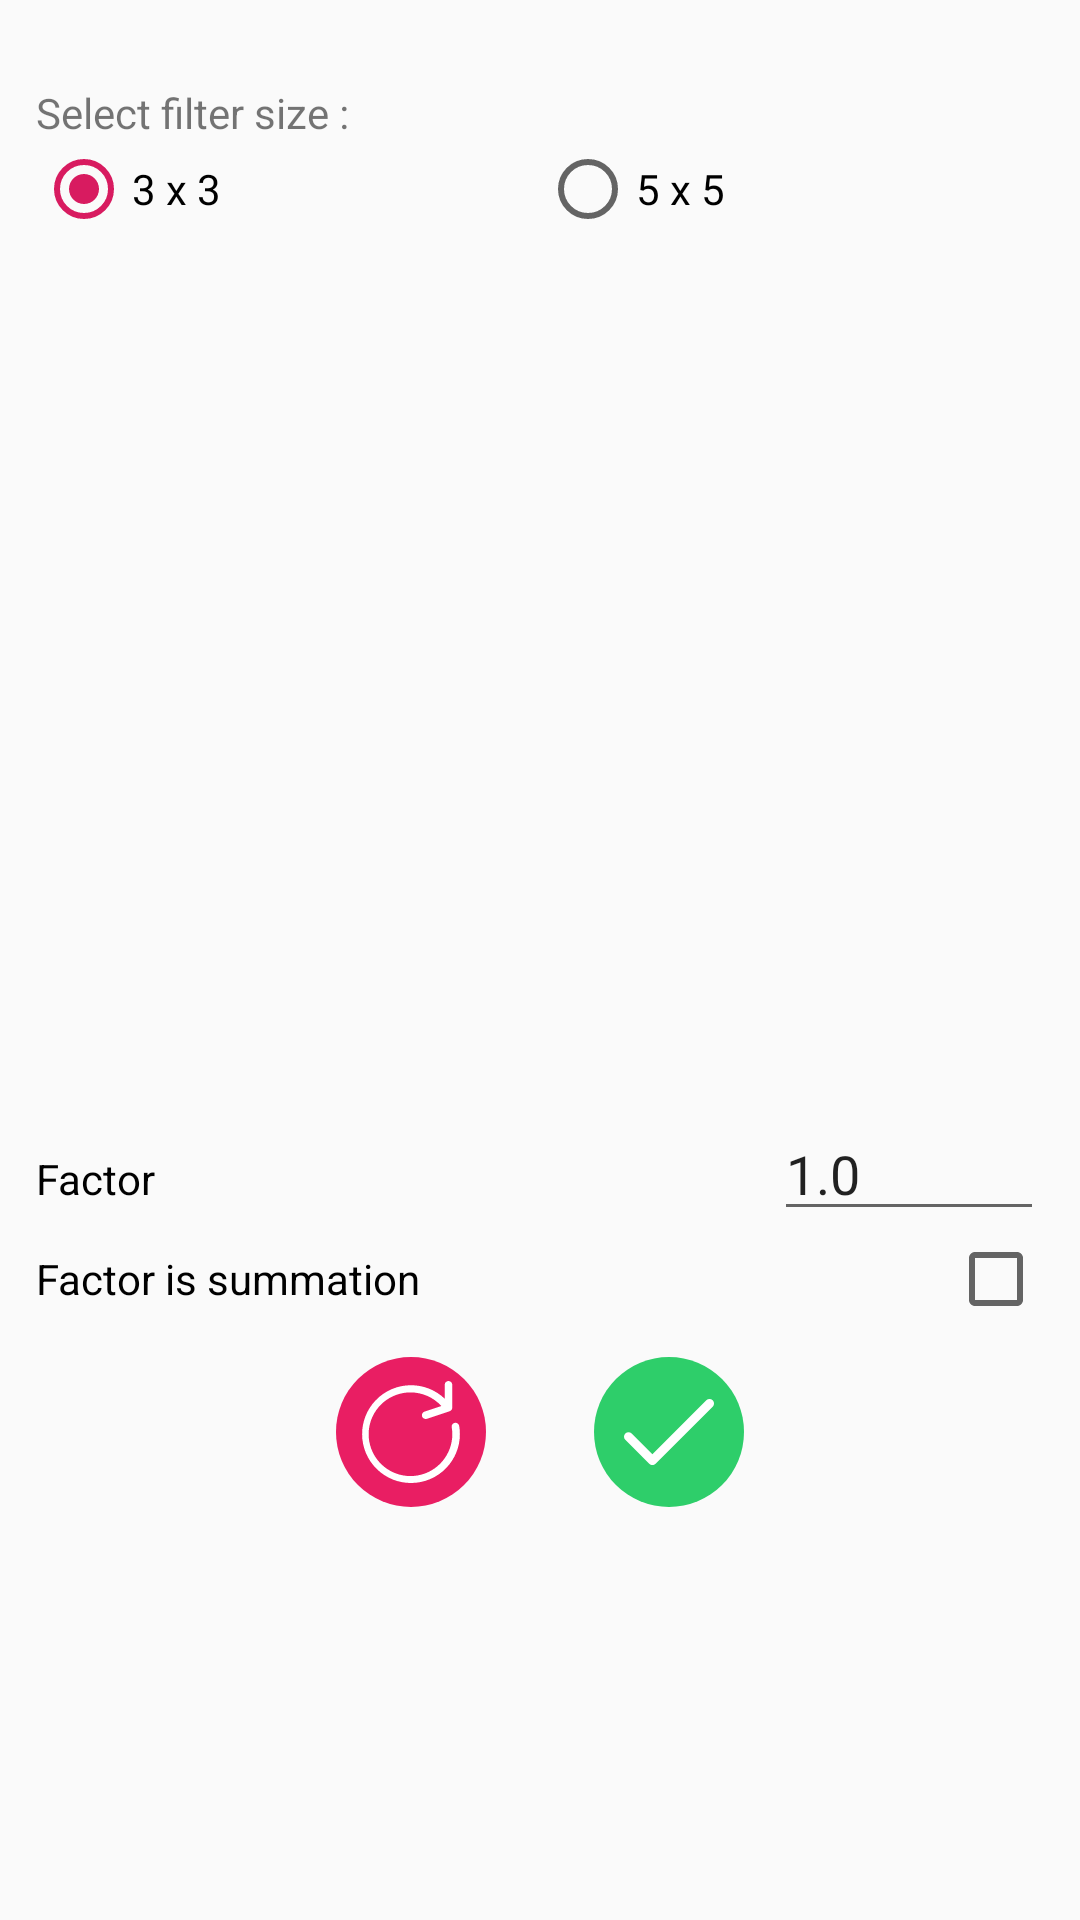

Locate icon controls on the screen. Image size 1080px x 1920px, boxes as (x1=x1, y1=y1, x2=x2, y2=y2).
refresh: (x1=336, y1=1357, x2=486, y2=1507)
tick: (x1=594, y1=1357, x2=744, y2=1507)
